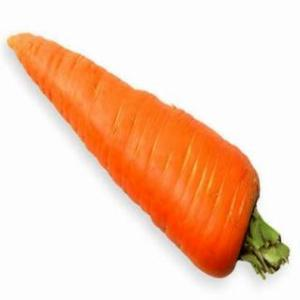carrot: (4, 21, 266, 284)
